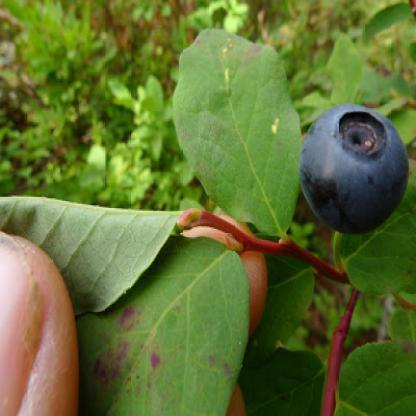Blueberry leaf: (168, 22, 298, 238)
